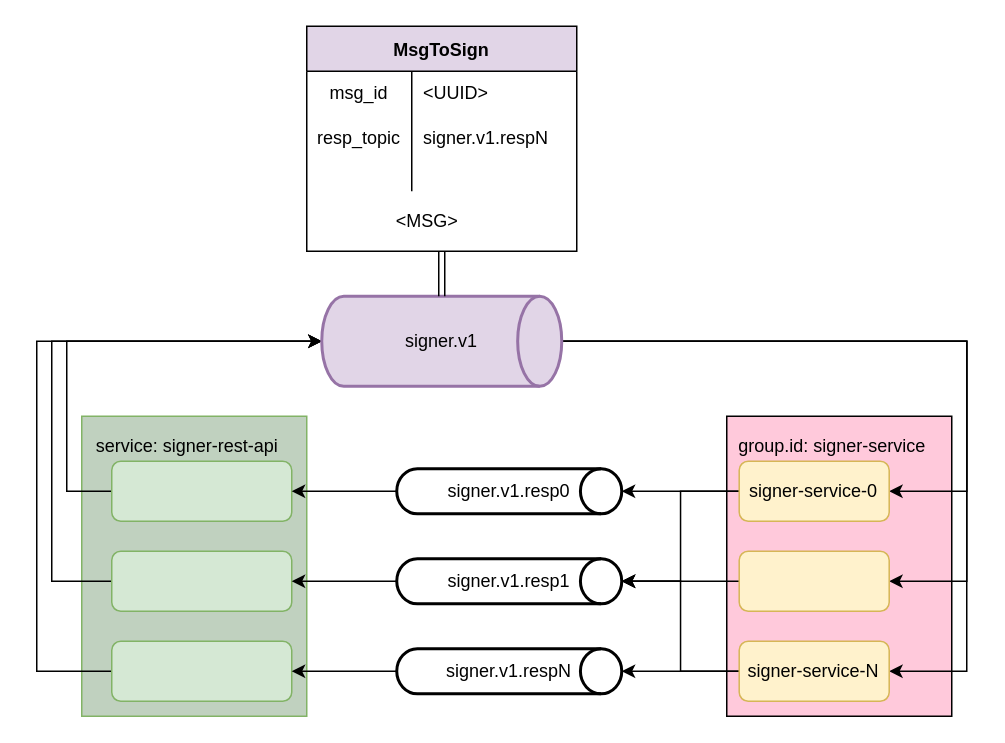
Some shapes in this 1005 by 743 pixel diagram are drawn without their labels. The shapes that lost their labels are listed below. From the top down, each one's centre as x and y in pixels, then its label:
At pixel 201 490: "signer-rest-api-0".
At pixel 201 580: "signer-rest-api-1".
At pixel 813 580: "signer-service-1".
At pixel 201 670: "signer-rest-api-N".
